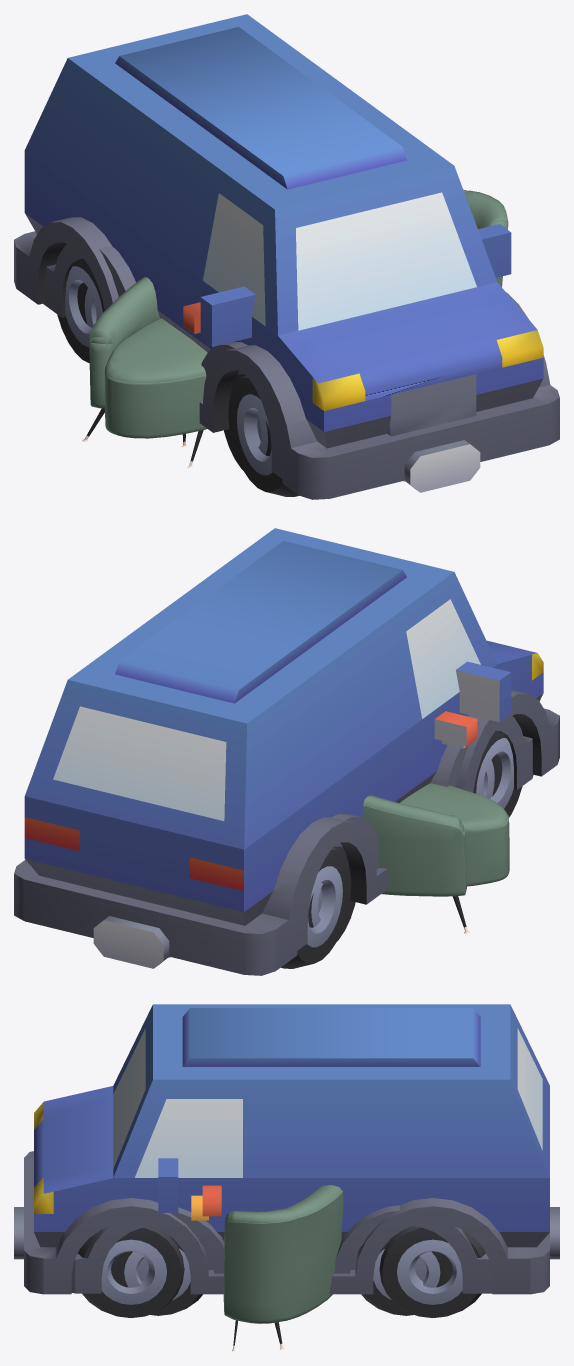
The model's file is neighborhood.glb.
The picture shows the model from 3 angles, top to bottom: view 1: azimuth 30°, elevation 25°; view 2: azimuth 150°, elevation 25°; view 3: azimuth 270°, elevation 25°; orthographic projection. The views are drawn at different scales.
Visible parts, largest first — view 1: body.002, GlamVelvetSofa_fabric, body, wheel-front-right.002, wheel-back-right.002, wheel-front-right, wheel-back-right; view 2: body.002, GlamVelvetSofa_fabric, body, wheel-back-right.002, wheel-front-right.002, wheel-back-right, wheel-front-right; view 3: body.002, GlamVelvetSofa_fabric, body, wheel-back-left.002, wheel-front-left.002, wheel-front-left, wheel-back-left, body.001.
Part boxes in pixels (left/top/right/bottom): body.002: left=14, top=14, right=559, bottom=499; GlamVelvetSofa_fabric: left=89, top=189, right=508, bottom=438; body: left=43, top=244, right=282, bottom=478; wheel-front-right.002: left=228, top=375, right=299, bottom=496; wheel-back-right.002: left=57, top=258, right=104, bottom=363; wheel-front-right: left=224, top=374, right=271, bottom=469; wheel-back-right: left=77, top=282, right=96, bottom=327; body.002: left=14, top=528, right=559, bottom=975; GlamVelvetSofa_fabric: left=362, top=783, right=509, bottom=896; body: left=297, top=711, right=533, bottom=950; wheel-back-right.002: left=281, top=847, right=351, bottom=968; wheel-front-right.002: left=473, top=730, right=522, bottom=817; wheel-back-right: left=308, top=846, right=355, bottom=941; wheel-front-right: left=483, top=754, right=502, bottom=798; body.002: left=14, top=1004, right=559, bottom=1294; GlamVelvetSofa_fabric: left=223, top=1185, right=343, bottom=1323; body: left=71, top=1185, right=492, bottom=1293; wheel-back-left.002: left=379, top=1226, right=485, bottom=1317; wheel-front-left.002: left=78, top=1226, right=184, bottom=1317; wheel-front-left: left=111, top=1235, right=202, bottom=1315; wheel-back-left: left=361, top=1236, right=452, bottom=1315; body.001: left=160, top=1195, right=403, bottom=1269.
Bounding box in the file's own units: 2.98 × 2.01 × 4.1.
Materials: 6 (1 with a texture image).
